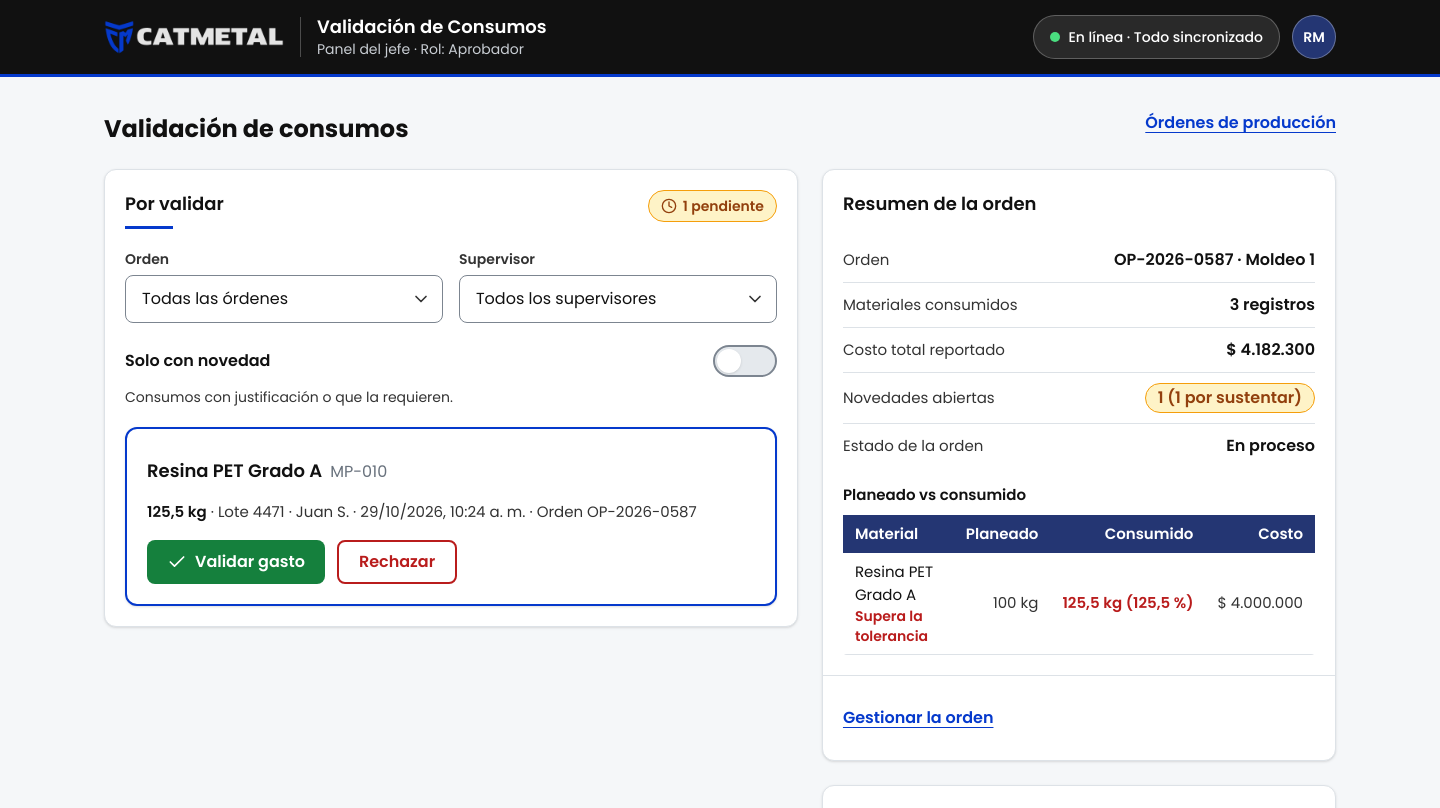
Test: cola de validación › ante un 409 avisa con claridad y recarga la cola
Click the button with aria-label "Validar gasto de Resina PET Grado A": (236, 562) [147,540,325,584]
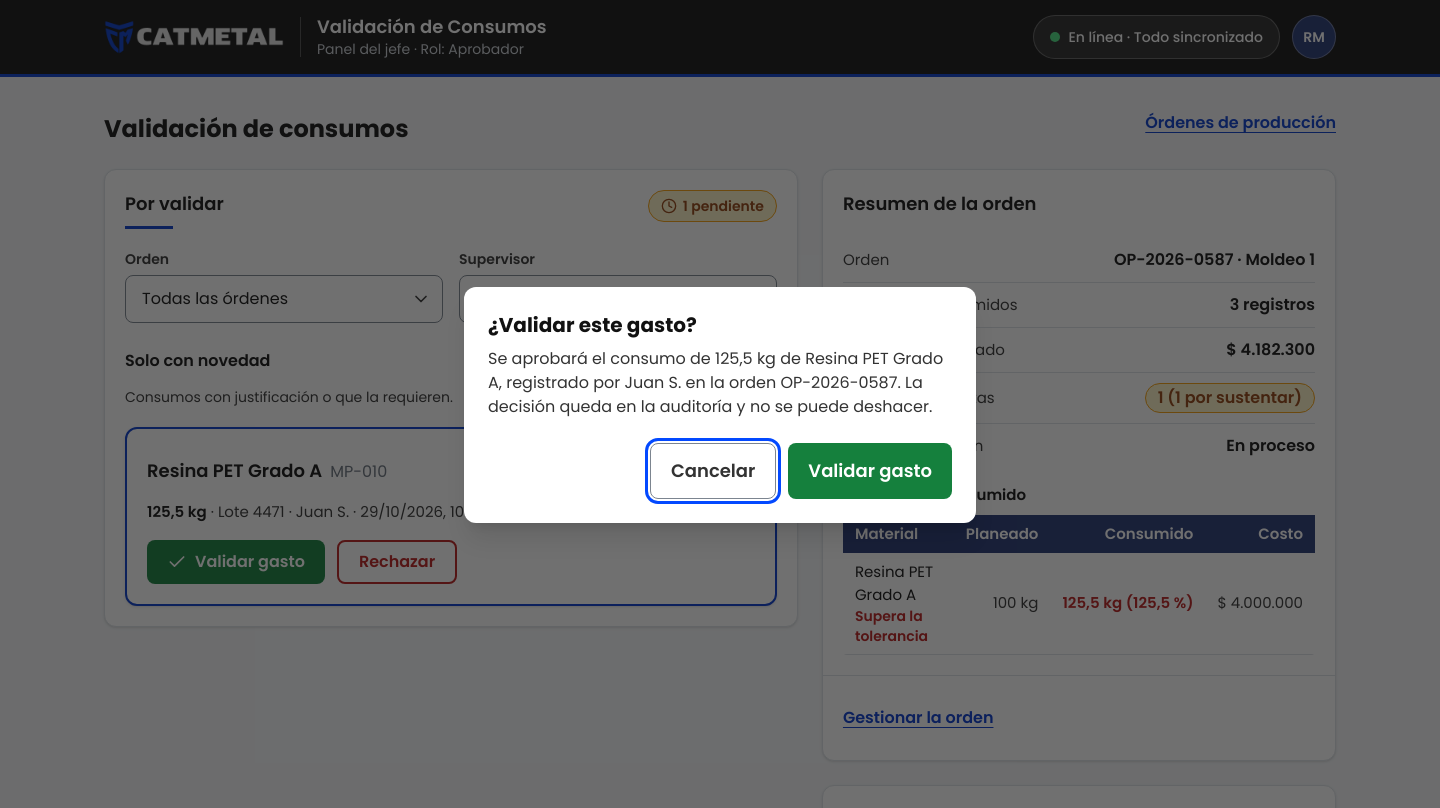
Click the button "Validar gasto": (870, 471) [788,443,952,499]
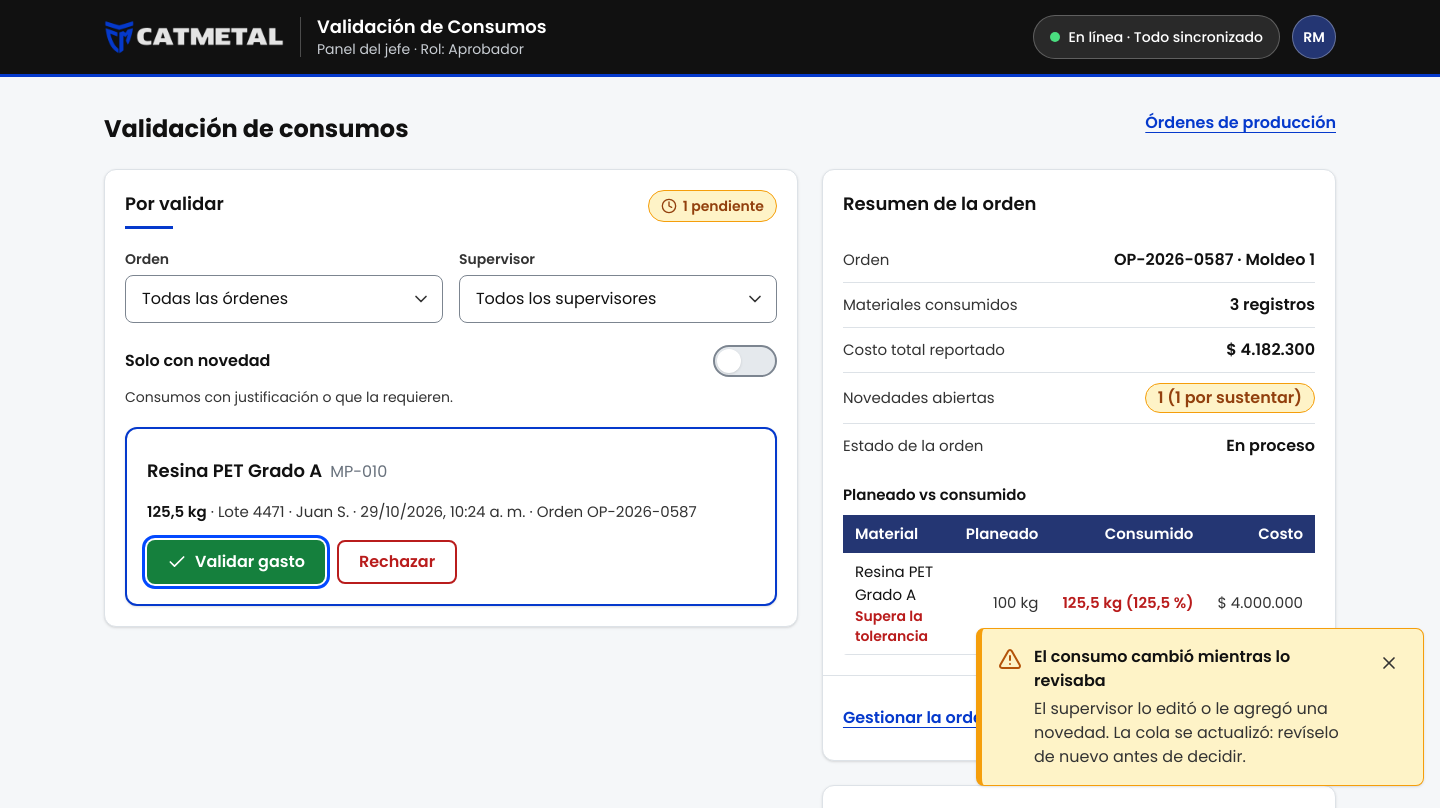
Check: the text "El consumo cambió mientras lo revisaba" is shown, box [1033,644,1290,692]
Check: the dialog is gone
